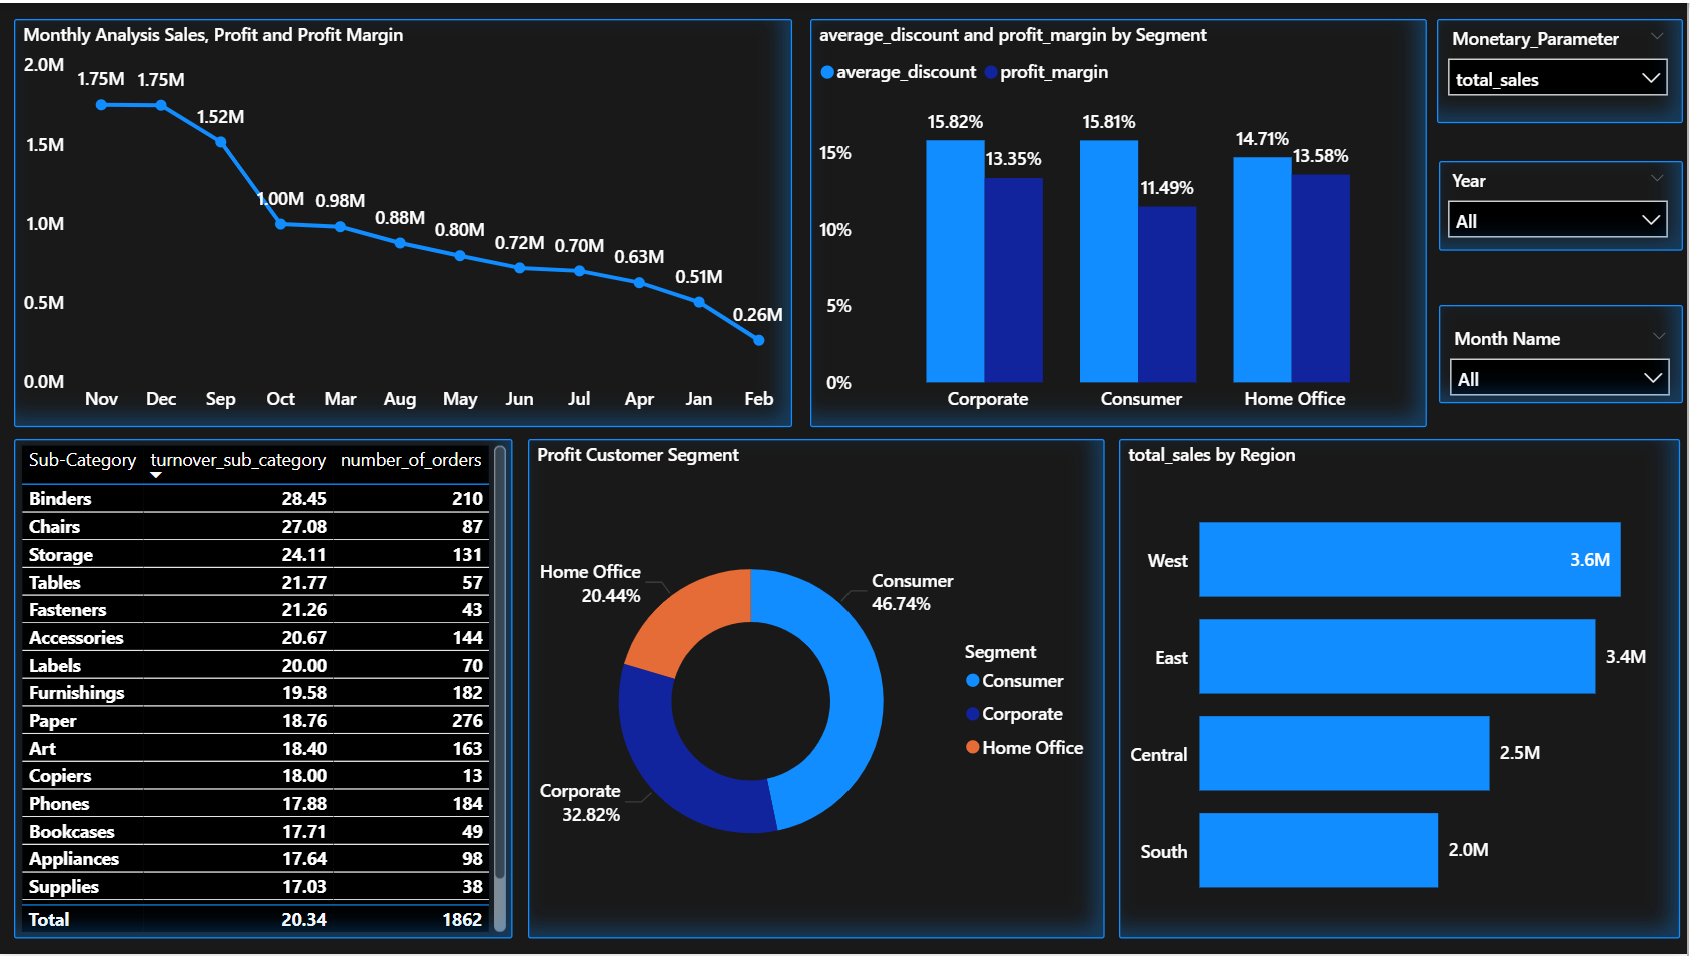

The page's visual inventory and layout, read from the dashboard file:
{"tool":"powerbi","page":{"name":"Dashboard_2","canvas":[1280,720],"ordinal":1},"visuals":[{"type":"lineChart","title":"Monthly Analysis Sales, Profit and Profit Margin","fields":{"Y":["MeasureTable.total_sales"],"Category":["Calendar.Month Name"]},"box":[12.1,12.1,590,309.4],"z":0},{"type":"slicer","fields":{"Values":["Monetary_Parameter.Monetary_Parameter"]},"box":[1088.9,12.1,186.5,66.7],"z":1000},{"type":"tableEx","fields":{"Values":["Sample - Superstore.Sub-Category","MeasureTable.turnover_sub_category","MeasureTable.number_of_orders"]},"box":[12.7,330.7,378.1,378.1],"z":2000},{"type":"donutChart","title":"Profit Customer Segment","fields":{"Category":["Sample - Superstore.Segment"],"Y":["MeasureTable.total_profits"]},"box":[401.9,330.7,436.7,378.1],"z":3000},{"type":"clusteredBarChart","fields":{"Y":["MeasureTable.total_sales"],"Category":["Sample - Superstore.Region"]},"box":[849.6,330.7,425.6,378.1],"z":4000},{"type":"clusteredColumnChart","fields":{"Category":["Sample - Superstore.Segment"],"Y":["MeasureTable.average_discount","MeasureTable.profit_margin"]},"box":[615.7,12.1,467.1,309.4],"z":5000},{"type":"slicer","fields":{"Values":["Calendar.Year"]},"box":[1088.9,119.8,186.5,68.2],"z":6000},{"type":"slicer","fields":{"Values":["Calendar.Month Name"]},"box":[1090.4,239.6,186.5,63.7],"z":7000},{"type":"shape","box":[12.7,330.7,378.1,378.1],"z":8000},{"type":"shape","box":[1090.4,12.1,186.5,78.9],"z":9000},{"type":"shape","box":[1091.9,229,185,74.3],"z":10000},{"type":"shape","box":[1091.9,119.8,185,68.2],"z":11000}]}

Visuals, with their boxes in screenshot pixels (x1, y1, x2, y2), scaled from the page's 1280x720 canvas onto the 1690x956 screenshot:
"Monthly Analysis Sales, Profit and Profit Margin" lineChart: pyautogui.locateOnScreen(16, 16, 795, 427)
slicer - Monetary_Parameter.Monetary_Parameter: pyautogui.locateOnScreen(1438, 16, 1684, 105)
tableEx - Sample - Superstore.Sub-Category x MeasureTable.turnover_sub_category: pyautogui.locateOnScreen(17, 439, 516, 941)
"Profit Customer Segment" donutChart: pyautogui.locateOnScreen(531, 439, 1107, 941)
clusteredBarChart - MeasureTable.total_sales x Sample - Superstore.Region: pyautogui.locateOnScreen(1122, 439, 1684, 941)
clusteredColumnChart - Sample - Superstore.Segment x MeasureTable.average_discount: pyautogui.locateOnScreen(813, 16, 1430, 427)
slicer - Calendar.Year: pyautogui.locateOnScreen(1438, 159, 1684, 250)
slicer - Calendar.Month Name: pyautogui.locateOnScreen(1440, 318, 1686, 403)
shape: pyautogui.locateOnScreen(17, 439, 516, 941)
shape: pyautogui.locateOnScreen(1440, 16, 1686, 121)
shape: pyautogui.locateOnScreen(1442, 304, 1686, 403)
shape: pyautogui.locateOnScreen(1442, 159, 1686, 250)
